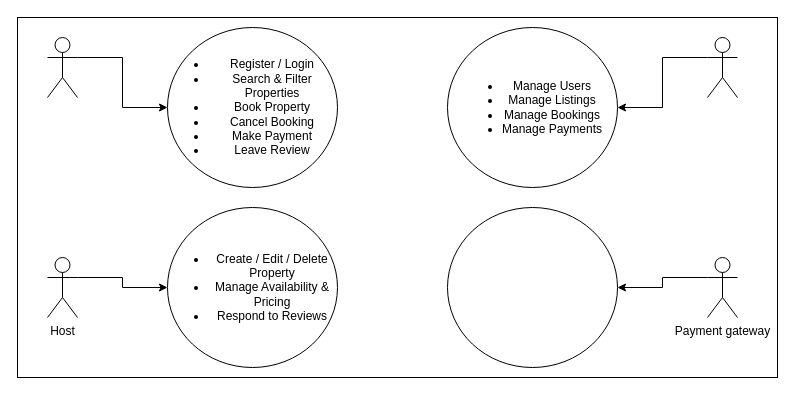
The diagram is 795 pixels wide and 395 high, and some of its shapes have lost their labels. The shapes that lost their labels are listed below. From the top down, each one's centre as x and y in pixels, then its label:
At [62,67]: "Guest".
At [722,67]: "Admin".
At [532,287]: "Process Payment Confirm Transaction".
